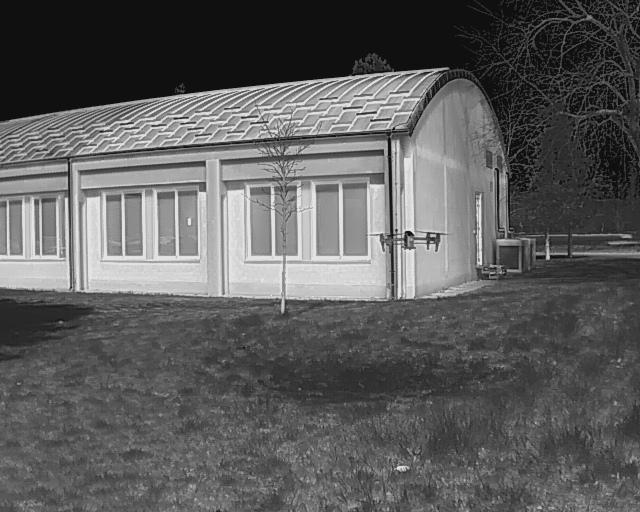drone: (361, 218, 453, 266)
